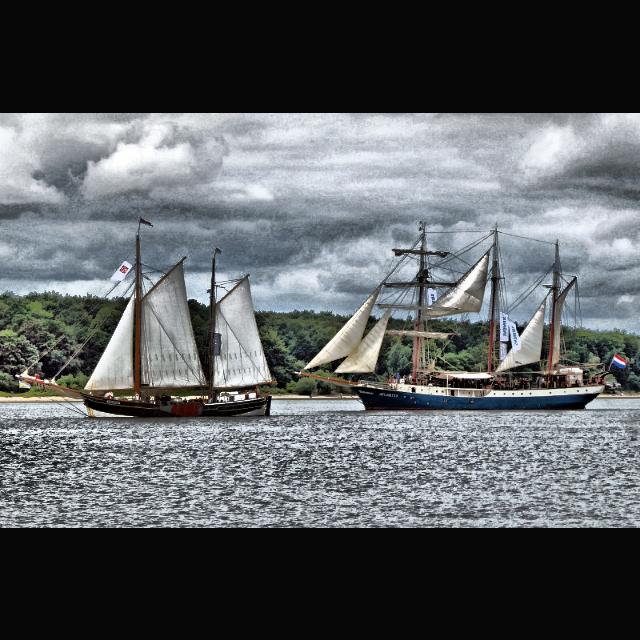sailing_vessel: (293, 219, 615, 411), (16, 232, 278, 418)
